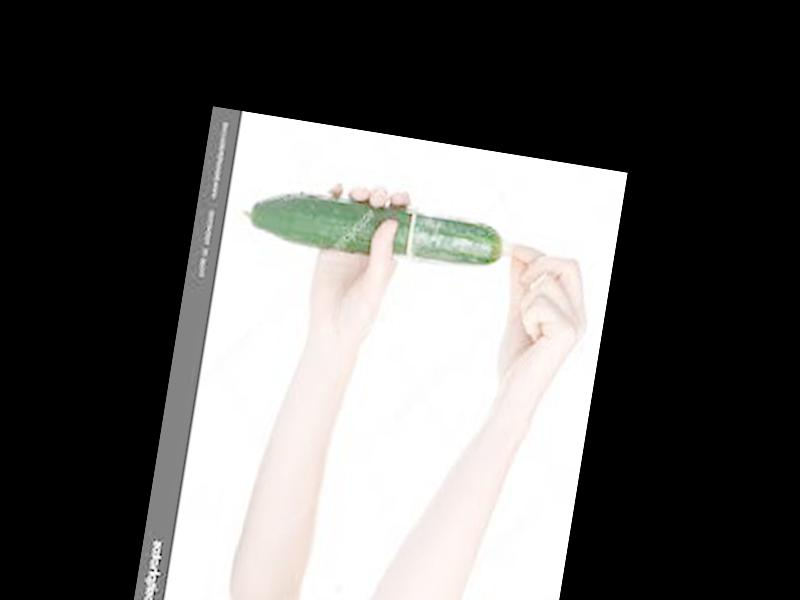Cucumber: (241, 184, 507, 272)
